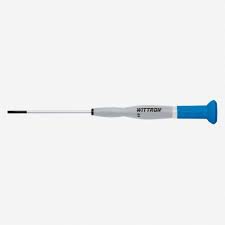Screwdriver: (4, 89, 225, 141)
